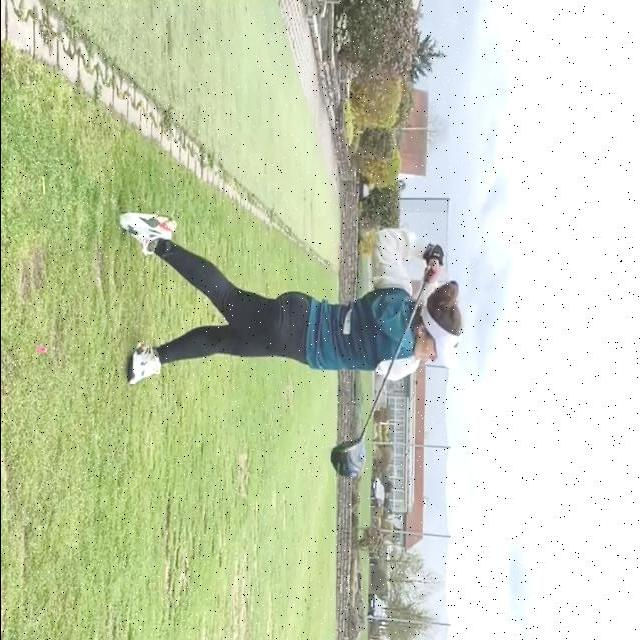ClubHandle: (326, 267, 437, 482)
ClubHead: (330, 440, 368, 479)
